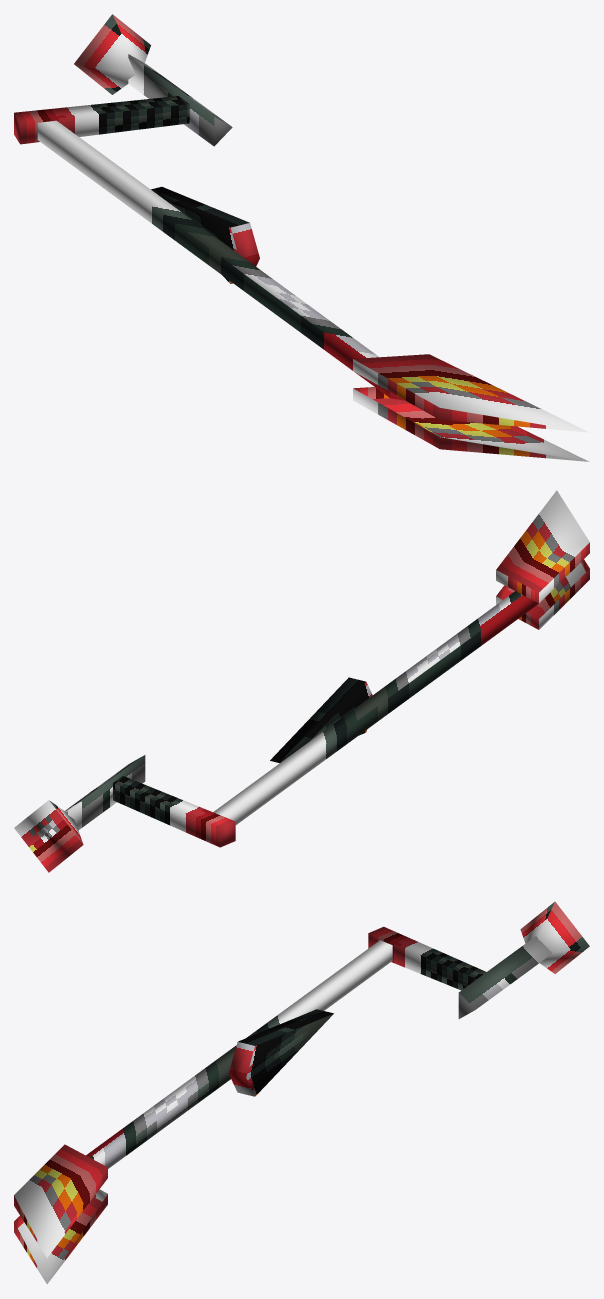
3 renders of one model, top to bottom at view 1: azimuth 30°, elevation 25°; view 2: azimuth 150°, elevation 25°; view 3: azimuth 330°, elevation 25°, orthographic. The views are drawn at different scales.
Parts seen in each view (by area): view 1: 2715sbim03_08; view 2: 2715sbim03_08; view 3: 2715sbim03_08.
Boxes of the visible parts, bbox=[...] form: 2715sbim03_08: bbox=[14, 14, 589, 461]; 2715sbim03_08: bbox=[14, 490, 589, 872]; 2715sbim03_08: bbox=[14, 901, 589, 1284].
Bounding box in the file's own units: 0.4819 × 0.1953 × 2.27.
1 material, 1 textured.
